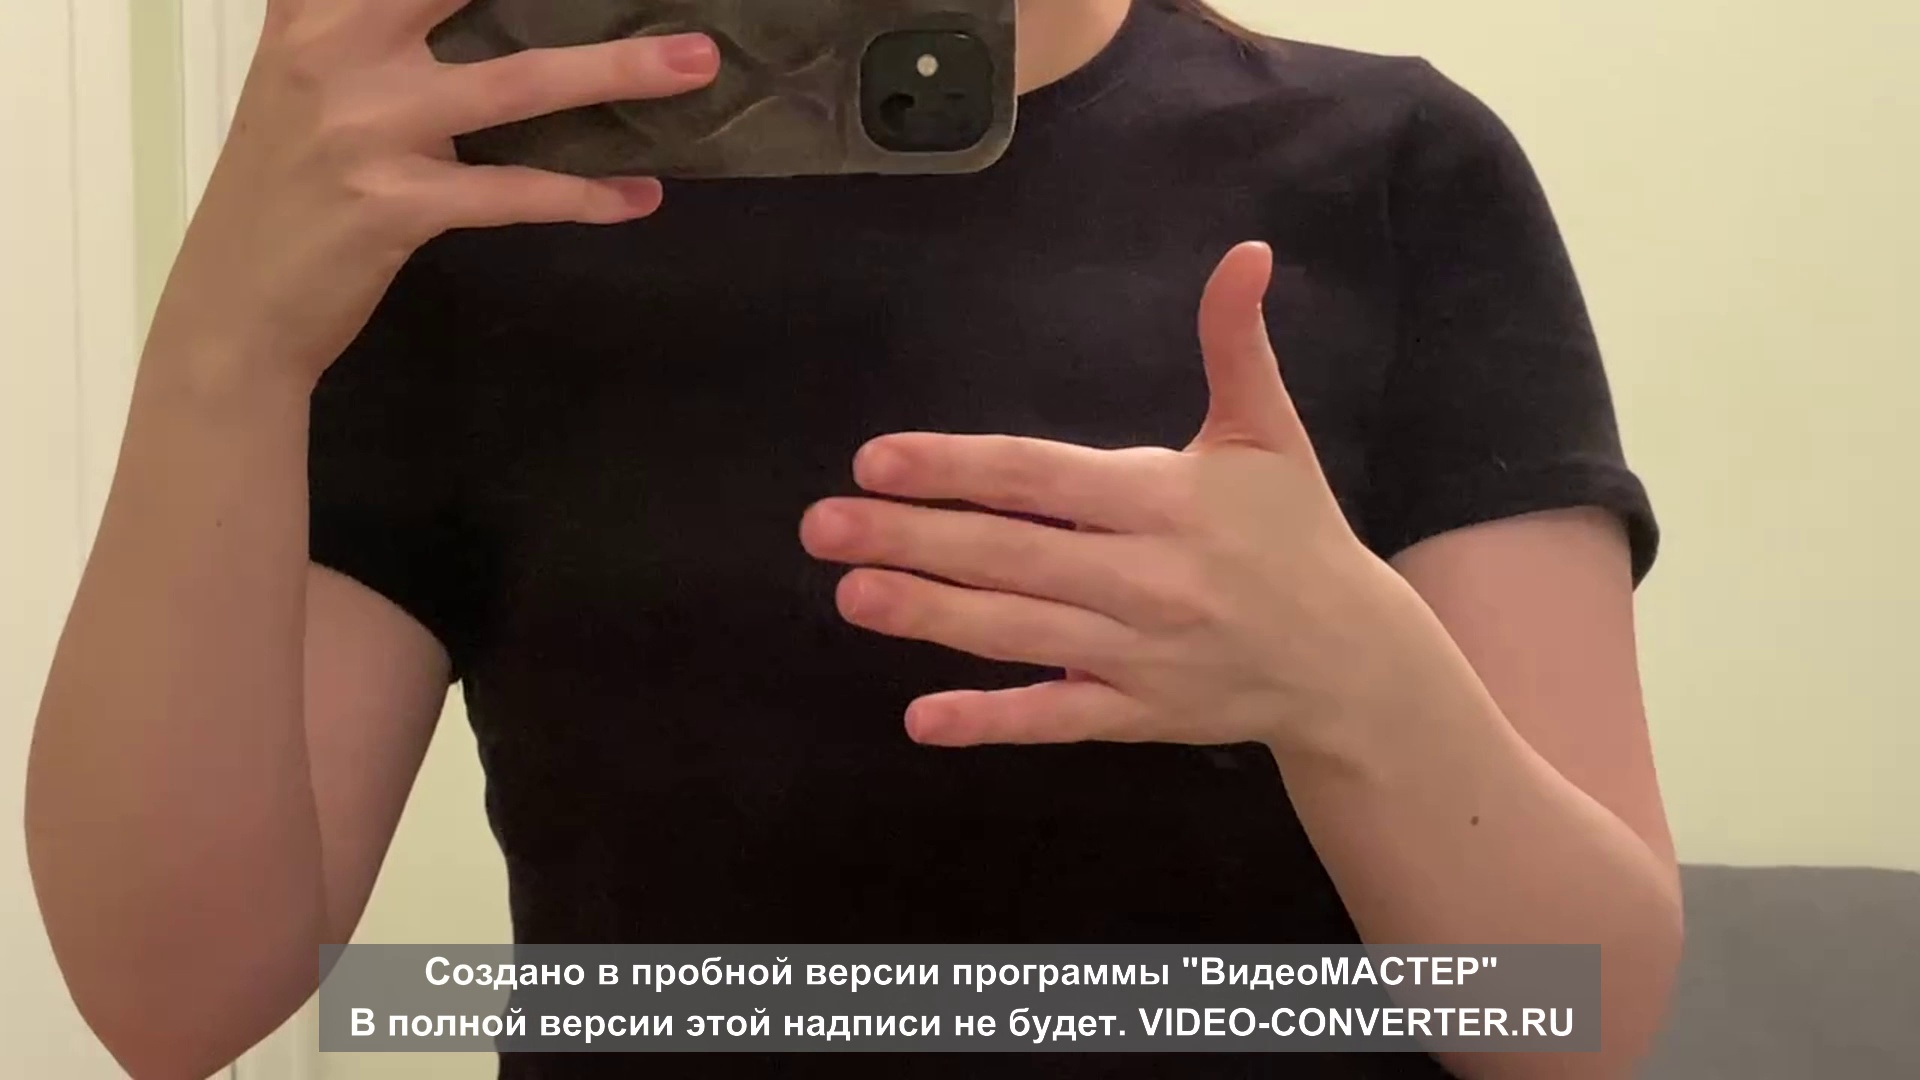Кисть: (798, 241, 1349, 749)
